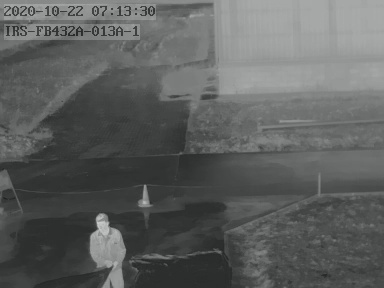person: (90, 213, 125, 288)
